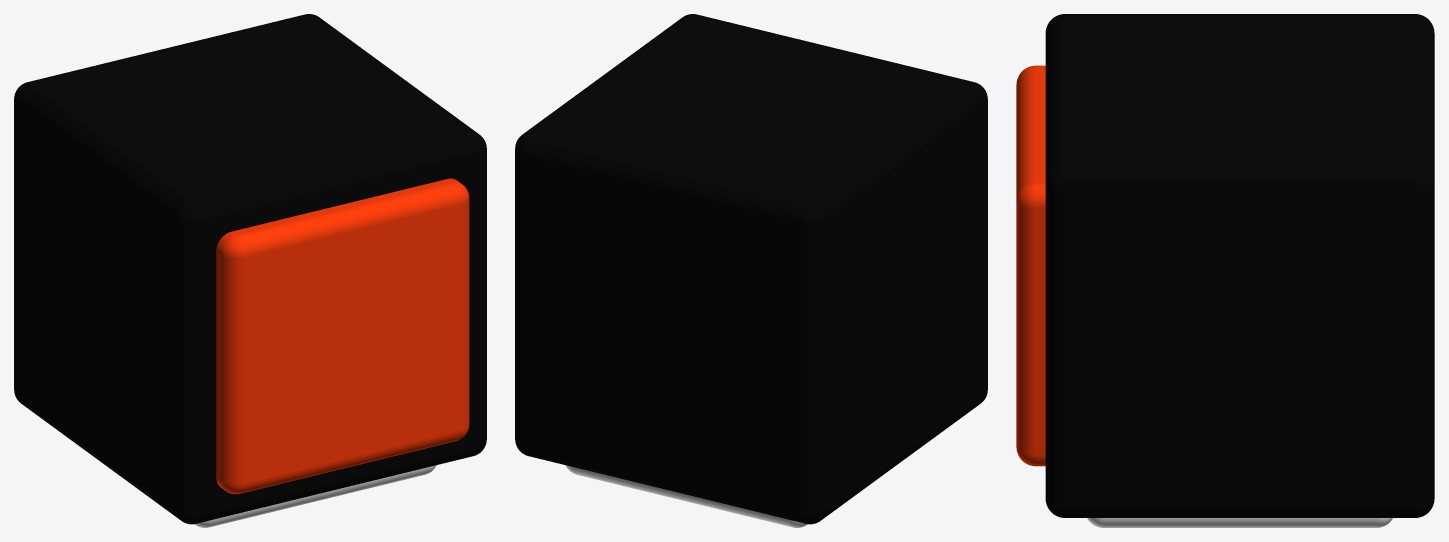
The model's file is cubinho(0, -1, 1).obj.
The picture shows the model from 3 angles, left to right: view 1: azimuth 30°, elevation 25°; view 2: azimuth 150°, elevation 25°; view 3: azimuth 270°, elevation 25°; orthographic projection. The views are drawn at different scales.
Visible parts, largest first — view 1: (0,_-1,_1); view 2: (0,_-1,_1); view 3: (0,_-1,_1).
Part boxes in pixels (x1,y1,x2,y2): (0,_-1,_1): (14,14,486,527); (0,_-1,_1): (515,14,987,527); (0,_-1,_1): (1016,14,1434,527).
Bounding box in the file's own units: 2 × 2.15 × 2.15.
